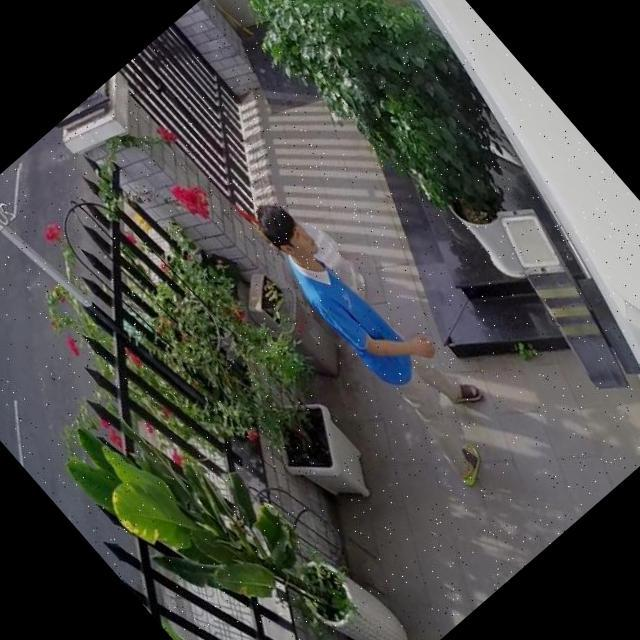person: (240, 180, 523, 491)
